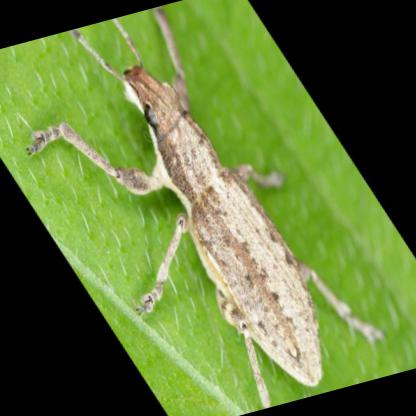ash weevil: (26, 11, 380, 405)
